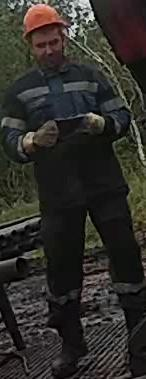gloves: (17, 121, 61, 161), (76, 111, 105, 136)
helmet: (22, 3, 70, 40)
vest: (7, 64, 133, 218)
